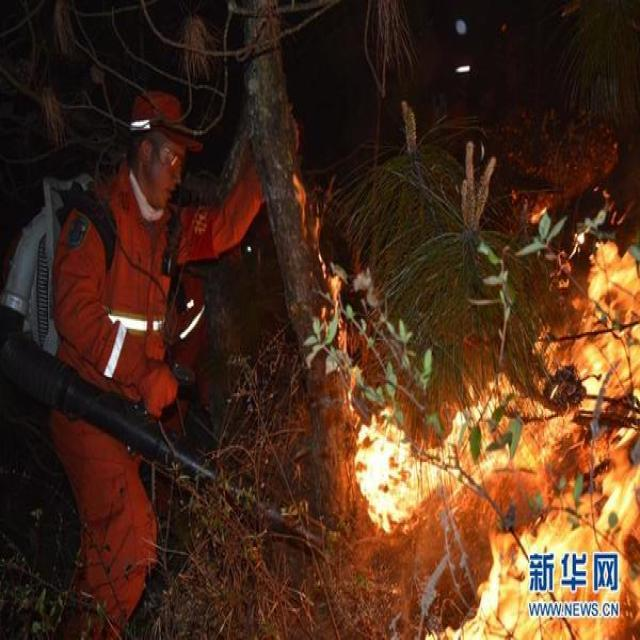Fire: (354, 239, 640, 640)
